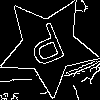P: (23, 21, 71, 76)
